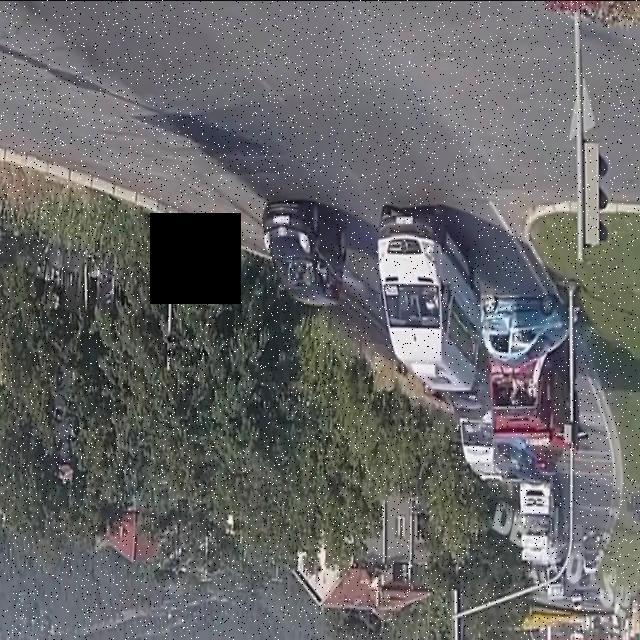severe: (474, 296, 590, 462)
